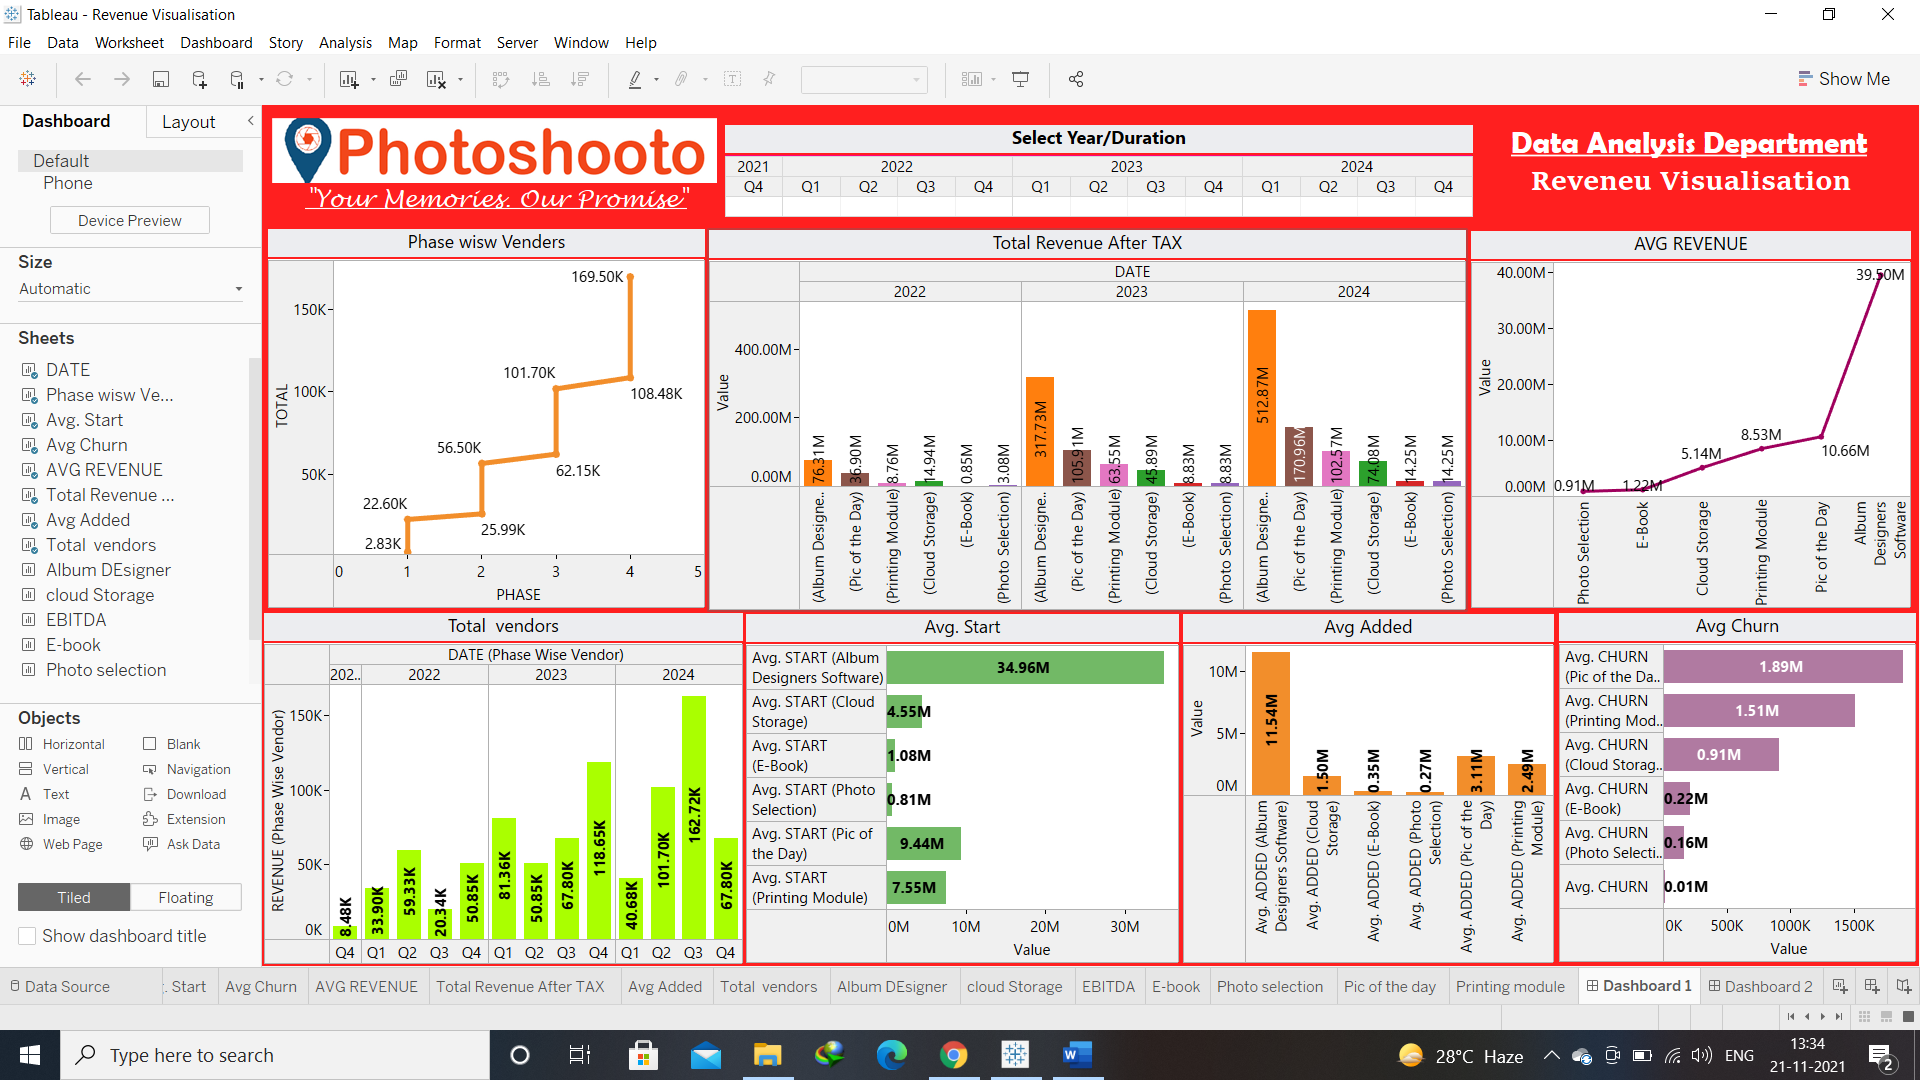

This screenshot's page, from the dashboard's own definition file:
{"tool":"tableau","page":{"name":"Dashboard 1","canvas":[1000,1000],"units":"permille","ordinal":0},"visuals":[{"type":"text","box":[742.5,12.2,238.1,61.1]},{"type":"image","param":"C:/Users/dwive/Desktop/download.png","box":[6.2,13.3,268.8,80]},{"type":"worksheet","title":"DATE ","mark":"Automatic","cols":["DATE","DATE"],"box":[279.4,23.2,451.4,106.9]},{"type":"text","box":[756.2,72.2,212.5,38.9]},{"type":"text","box":[18.8,90,246.9,41.1]},{"type":"worksheet","title":"Phase wisw Venders","mark":"Automatic","rows":["TOTAL"],"cols":["PHASE"],"box":[3.6,144,263.7,440.2]},{"type":"worksheet","title":"Total Revenue After TAX","mark":"Bar","cols":["DATE"],"box":[269.8,145.2,456.9,441.4]},{"type":"worksheet","title":"AVG REVENUE","mark":"Line","box":[729.6,146.3,265.5,437.9]},{"type":"worksheet","title":"Total  vendors","mark":"Bar","rows":["REVENUE (Phase Wise Vendor)"],"cols":["DATE (Phase Wise Vendor)","DATE (Phase Wise Vendor)"],"box":[1.2,590,289.1,407.7]},{"type":"worksheet","title":"Avg Churn","mark":"Automatic","box":[782.7,590,215.5,405.3]},{"type":"worksheet","title":"Avg. Start","mark":"Automatic","box":[292.1,591.2,261.3,405.3]},{"type":"worksheet","title":"Avg Added","mark":"Automatic","box":[555.8,591.2,223.9,405.3]}]}

Visuals, with their boxes on the dashboard's canvas, which has no fixed pixel size, in thousandths of its width and height (x1, y1, x2, y2). These are canvas units, not pixel positions in the 1920x1080 screenshot, which may show the page scaled, cropped or inside an application window:
text: [742, 12, 981, 73]
image: [6, 13, 275, 93]
"DATE " worksheet: [279, 23, 731, 130]
text: [756, 72, 969, 111]
text: [19, 90, 266, 131]
"Phase wisw Venders" worksheet: [4, 144, 267, 584]
"Total Revenue After TAX" worksheet (Bar marks): [270, 145, 727, 587]
"AVG REVENUE" worksheet (Line marks): [730, 146, 995, 584]
"Total  vendors" worksheet (Bar marks): [1, 590, 290, 998]
"Avg Churn" worksheet: [783, 590, 998, 995]
"Avg. Start" worksheet: [292, 591, 553, 996]
"Avg Added" worksheet: [556, 591, 780, 996]
